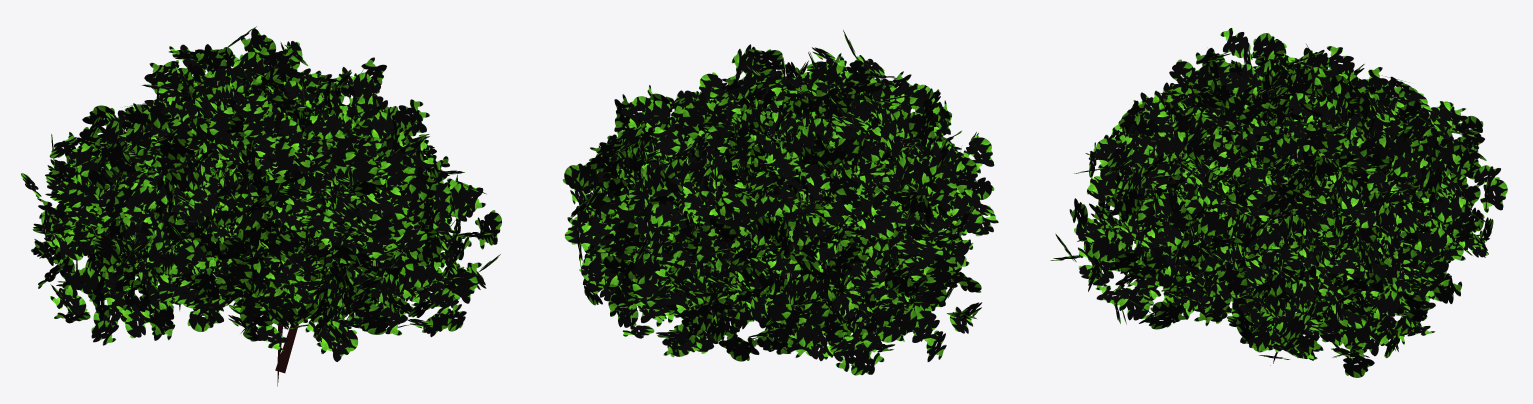
The model's file is understory_laurel_v01_LOD1.glb.
The picture shows the model from 3 angles, left to right: view 1: azimuth 30°, elevation 25°; view 2: azimuth 150°, elevation 25°; view 3: azimuth 270°, elevation 25°; orthographic projection. The views are drawn at different scales.
Parts seen in each view (by area): view 1: understory_laurel_v01_LOD1; view 2: understory_laurel_v01_LOD1; view 3: understory_laurel_v01_LOD1.
Boxes of the visible parts, <box> form: understory_laurel_v01_LOD1: <box>21,26,501,386</box>; understory_laurel_v01_LOD1: <box>562,30,998,375</box>; understory_laurel_v01_LOD1: <box>1050,28,1507,377</box>.
Size of the model in its own units: 8.72 by 6.35 by 8.84.
Materials: 2 (2 with a texture image).
